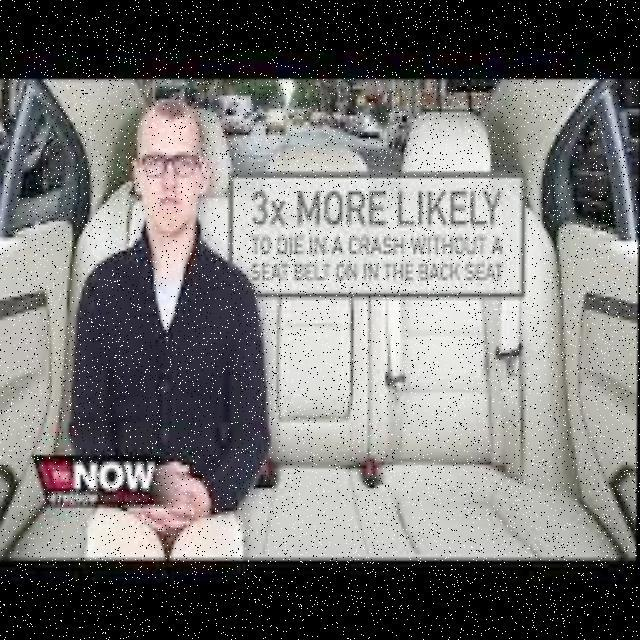noSeatbelt: (56, 226, 274, 464)
